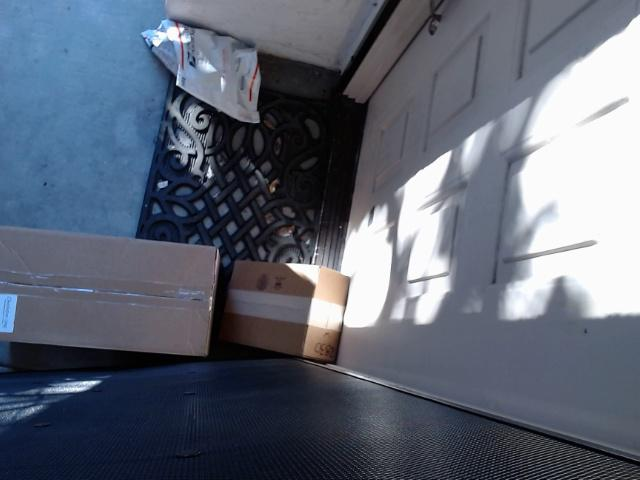box: (0, 225, 220, 357), (220, 259, 350, 363)
plastic_bag: (141, 18, 261, 124)
